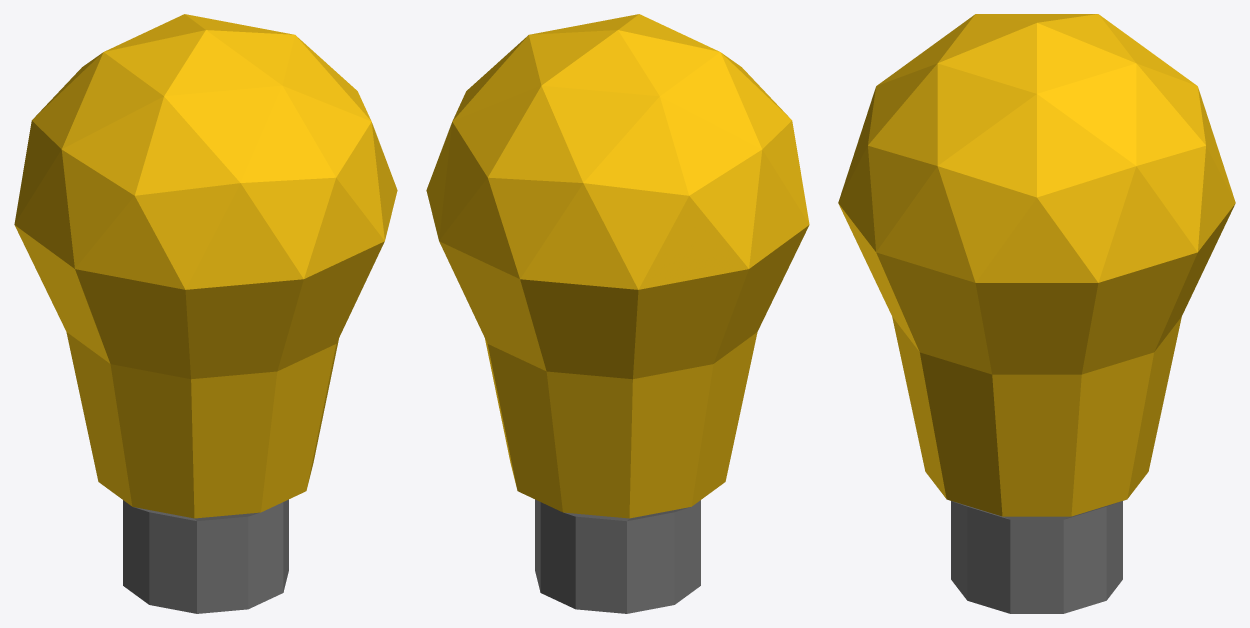
The model's file is bulb.fbx.
3 views of the same model, side by side, from view 1: azimuth 30°, elevation 25°; view 2: azimuth 150°, elevation 25°; view 3: azimuth 270°, elevation 25° (orthographic).
Visible parts, largest first — view 1: bulb; view 2: bulb; view 3: bulb.
Part boxes in pixels (x1,y1,x2,y2): bulb: (14,14,397,613); bulb: (426,14,809,613); bulb: (838,14,1235,613).
Size of the model in its own units: 5.54 by 9.51 by 5.82.
